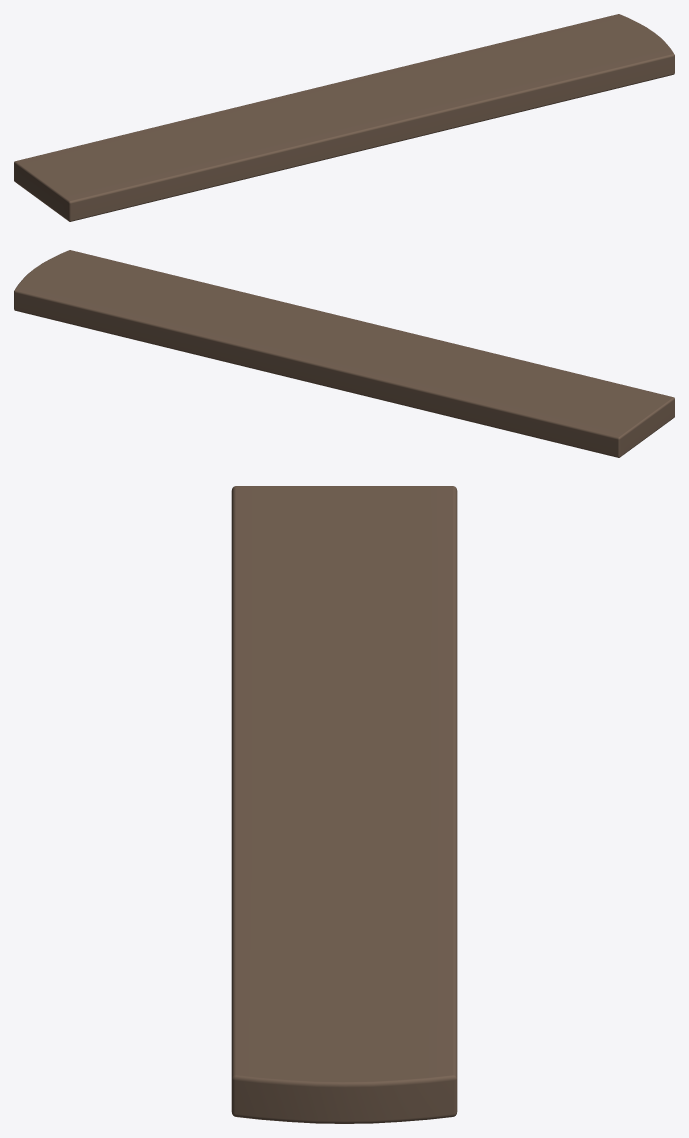
Rendered from WoodenBoard.fbx.
The picture shows the model from 3 angles, top to bottom: view 1: azimuth 30°, elevation 25°; view 2: azimuth 150°, elevation 25°; view 3: azimuth 270°, elevation 25°; orthographic projection. The views are drawn at different scales.
Parts seen in each view (by area): view 1: WoodBoard01; view 2: WoodBoard01; view 3: WoodBoard01.
Boxes of the visible parts, <box> form: WoodBoard01: <box>14,14,674,221</box>; WoodBoard01: <box>14,250,674,457</box>; WoodBoard01: <box>231,486,457,1123</box>.
Bounding box in the file's own units: 8.37 × 0.272 × 1.33.
